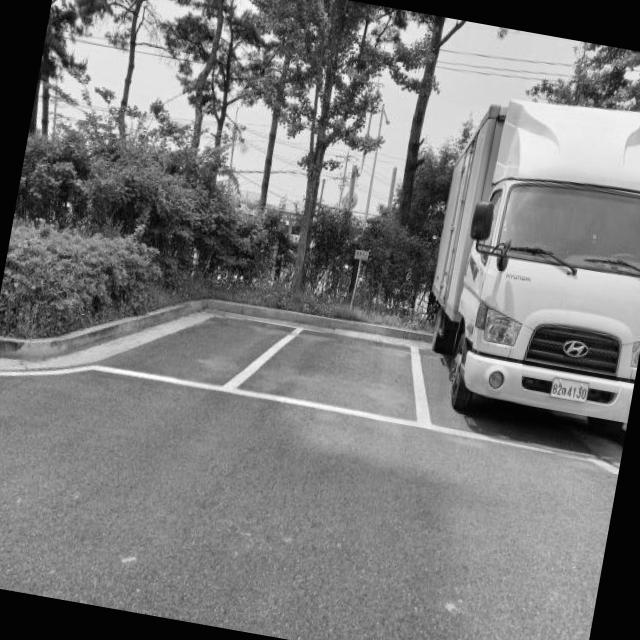car: (406, 82, 640, 441)
free: (104, 289, 272, 396), (262, 318, 418, 426)
